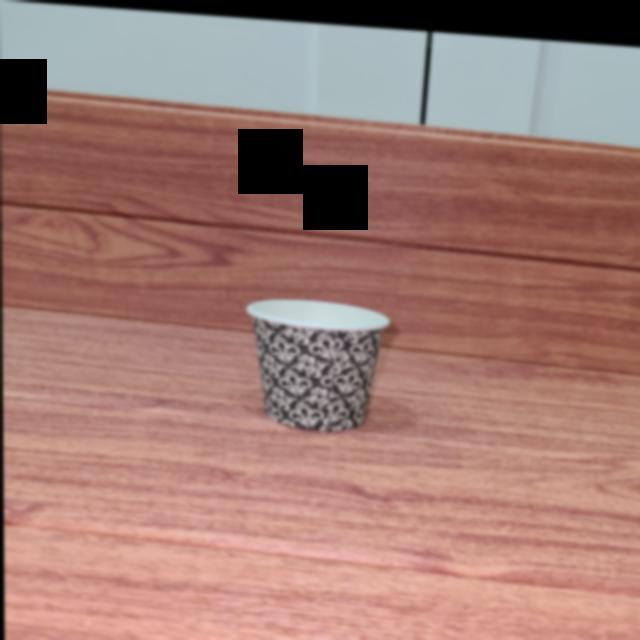cups: (237, 287, 395, 436)
